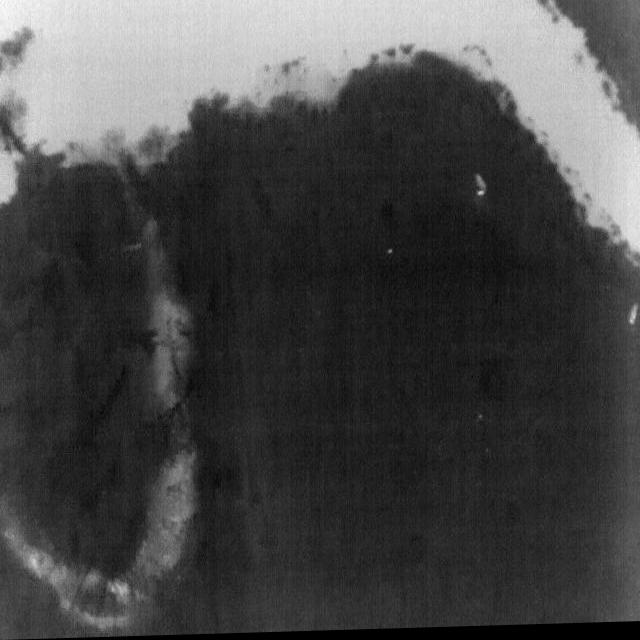deer: (474, 177, 486, 199), (628, 308, 639, 330)
